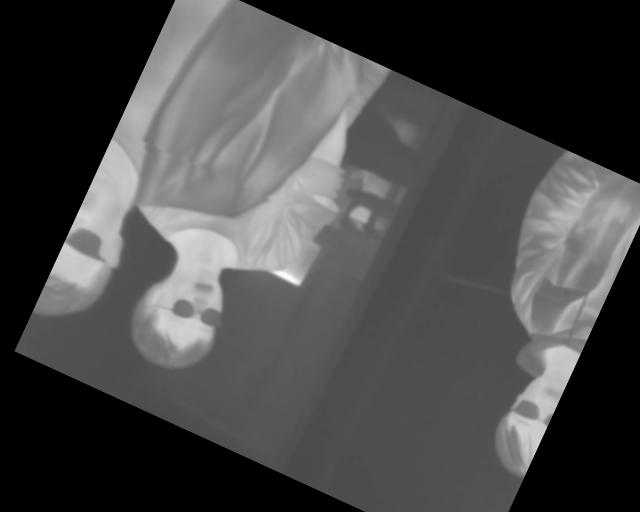face: (115, 251, 241, 387), (482, 364, 566, 479)
